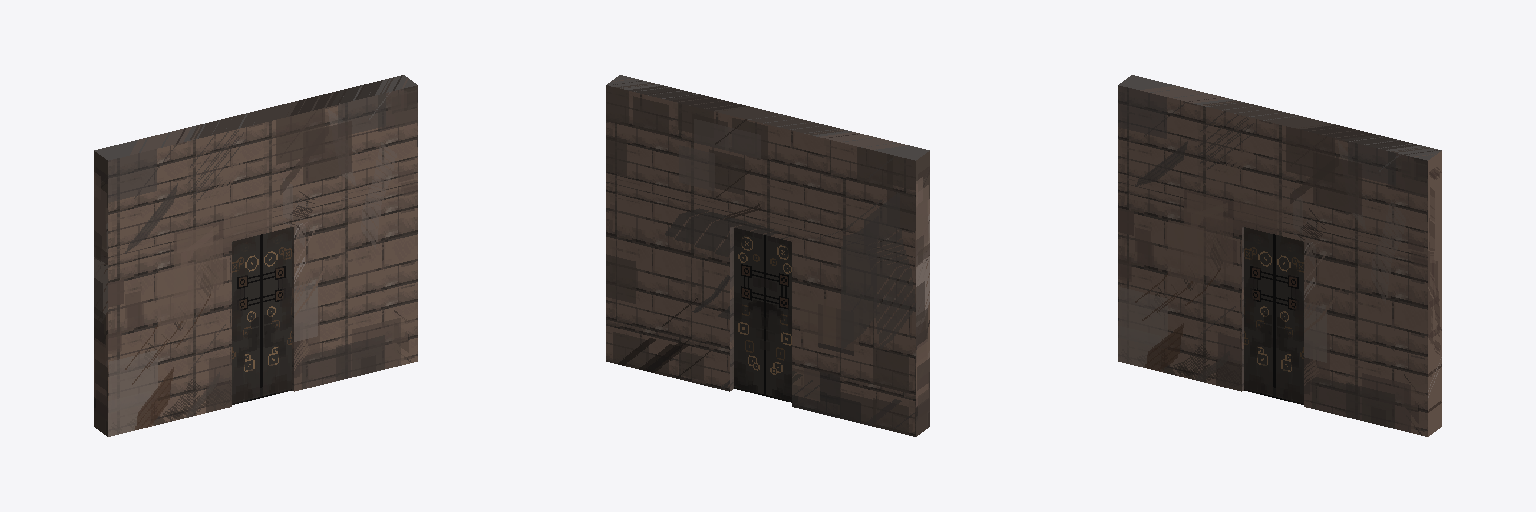
The picture shows the model from 3 angles: view 1: azimuth 30°, elevation 25°; view 2: azimuth 150°, elevation 25°; view 3: azimuth 330°, elevation 25°; orthographic projection.
Parts seen in each view (by area): view 1: cuboid; view 2: cuboid; view 3: cuboid.
Boxes of the visible parts, x1,y1,x2,y2 form: cuboid: [94, 75, 417, 436]; cuboid: [606, 75, 929, 436]; cuboid: [1118, 75, 1441, 436].
Size of the model in its own units: 3.38 by 2.88 by 0.2656.
Materials: 2 (2 with a texture image).